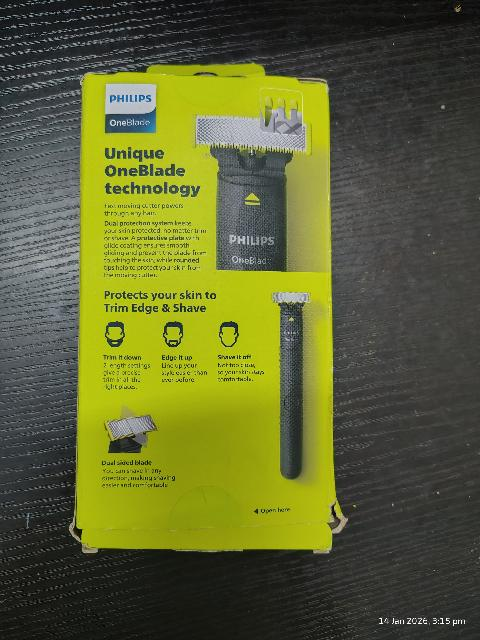phillips oneblade: (80, 64, 326, 558)
